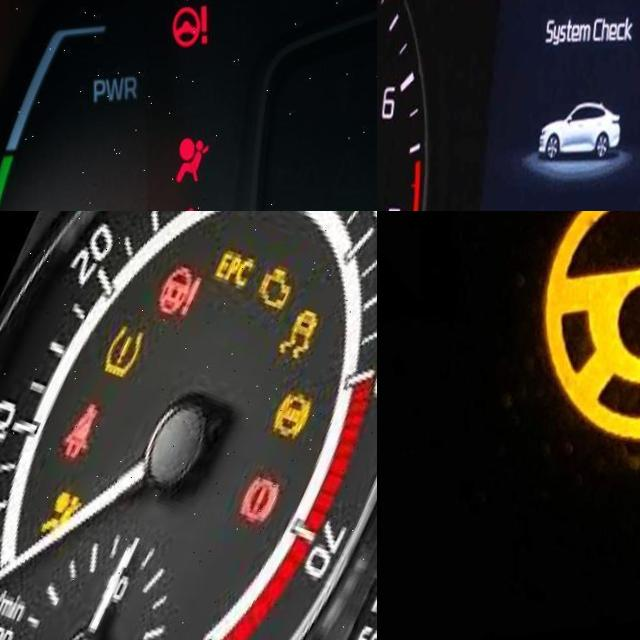Electronic Power Steering: (538, 211, 640, 456)
Electronic Power Steering Warning: (168, 7, 212, 59), (156, 274, 202, 323)
Seat Belt: (58, 408, 99, 462)
